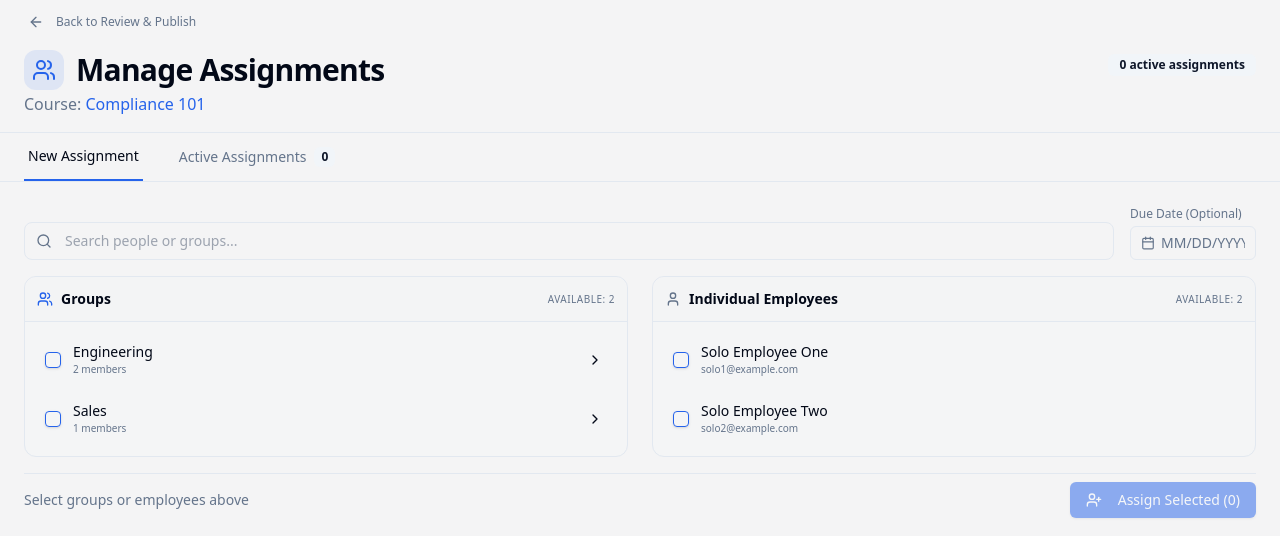
ManagerTrainingAssignments — group expand on New Assignment tab › clicking the row body (not the chevron) toggles selection
// Click on the group name text (which is inside the selectable row)
Click the text "Engineering" at (113, 352), box [73,342,153,361]
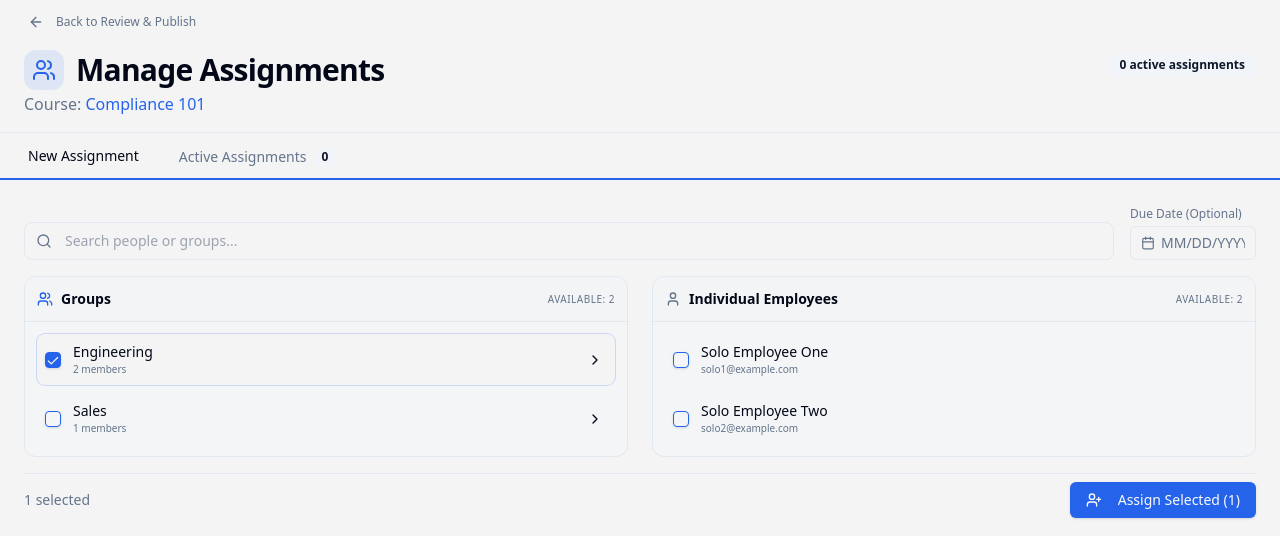
Expected: the text "1 selected" is shown, [24,490,90,510]
